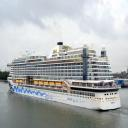cruises: (8, 42, 124, 114)
